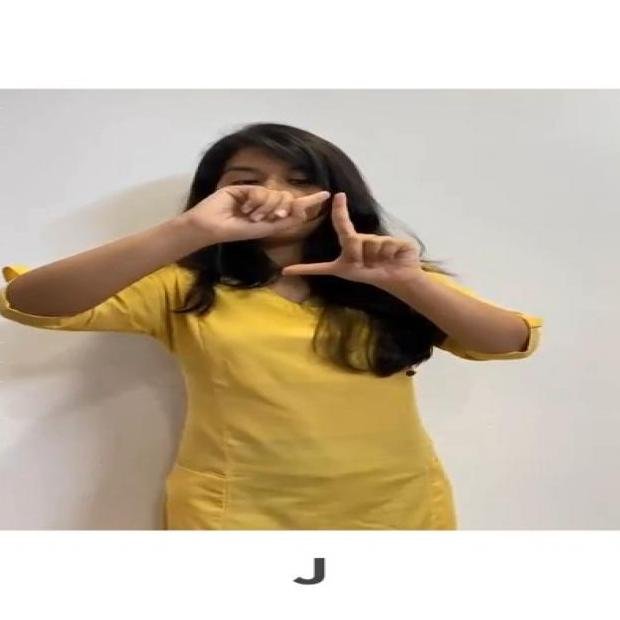I: (174, 172, 436, 305)
